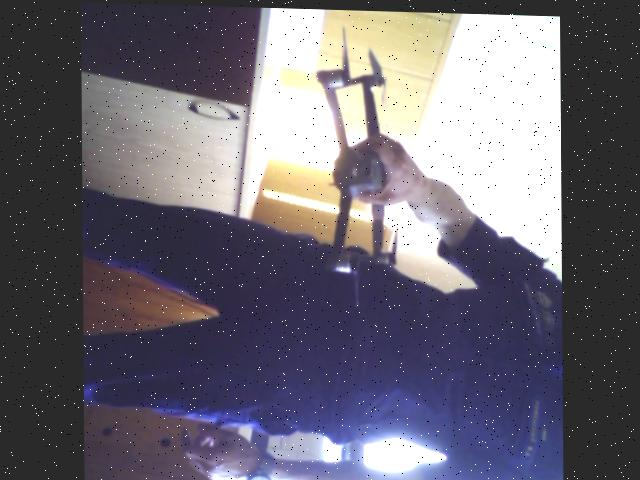drone: (297, 42, 425, 320)
